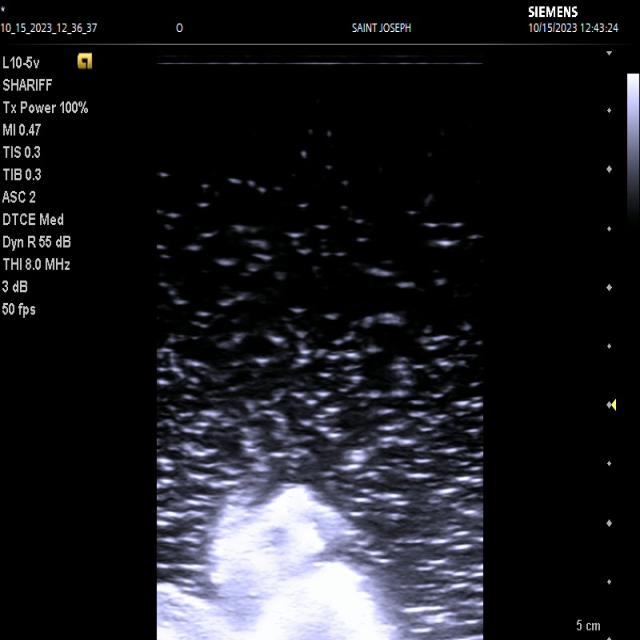tissue: (157, 486, 401, 640)
